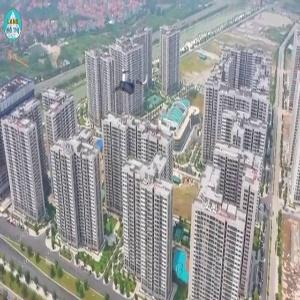drone: (110, 63, 151, 104)
